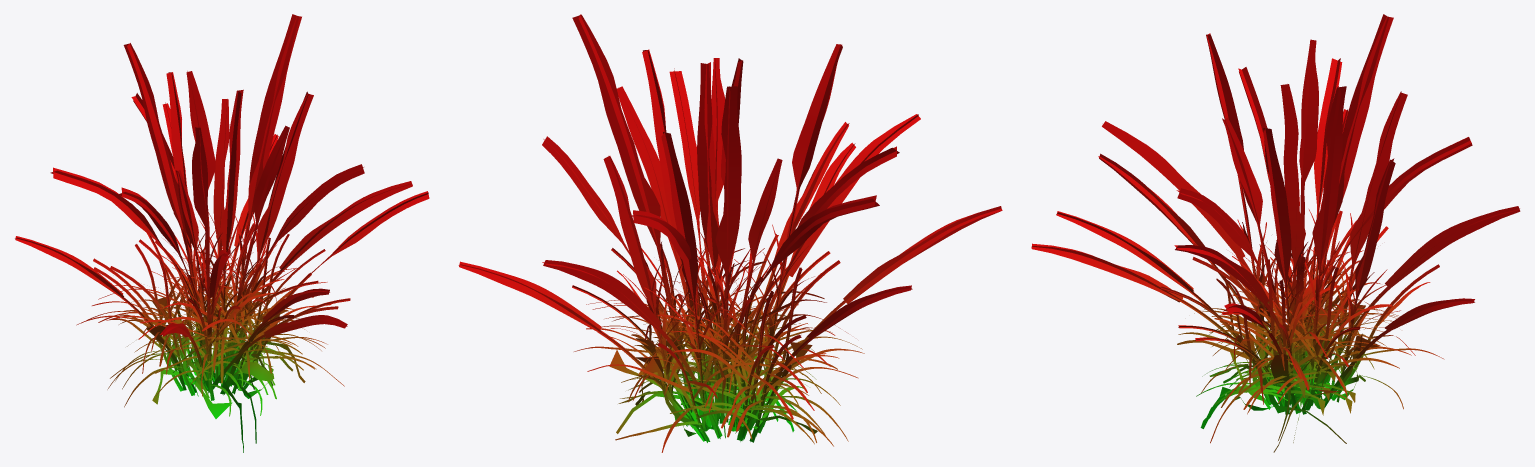
Rendered from slBjG_Var3_LOD0.fbx.
The picture shows the model from 3 angles, left to right: view 1: azimuth 30°, elevation 25°; view 2: azimuth 150°, elevation 25°; view 3: azimuth 270°, elevation 25°; orthographic projection. The views are drawn at different scales.
Parts seen in each view (by area): view 1: _a631_Var3_LOD0; view 2: _a631_Var3_LOD0; view 3: _a631_Var3_LOD0.
Part boxes in pixels (x1,y1,x2,y2): _a631_Var3_LOD0: [15, 14, 429, 452]; _a631_Var3_LOD0: [458, 14, 1002, 452]; _a631_Var3_LOD0: [1031, 14, 1520, 452].
Size of the model in its own units: 54.01 by 52.12 by 57.02.
